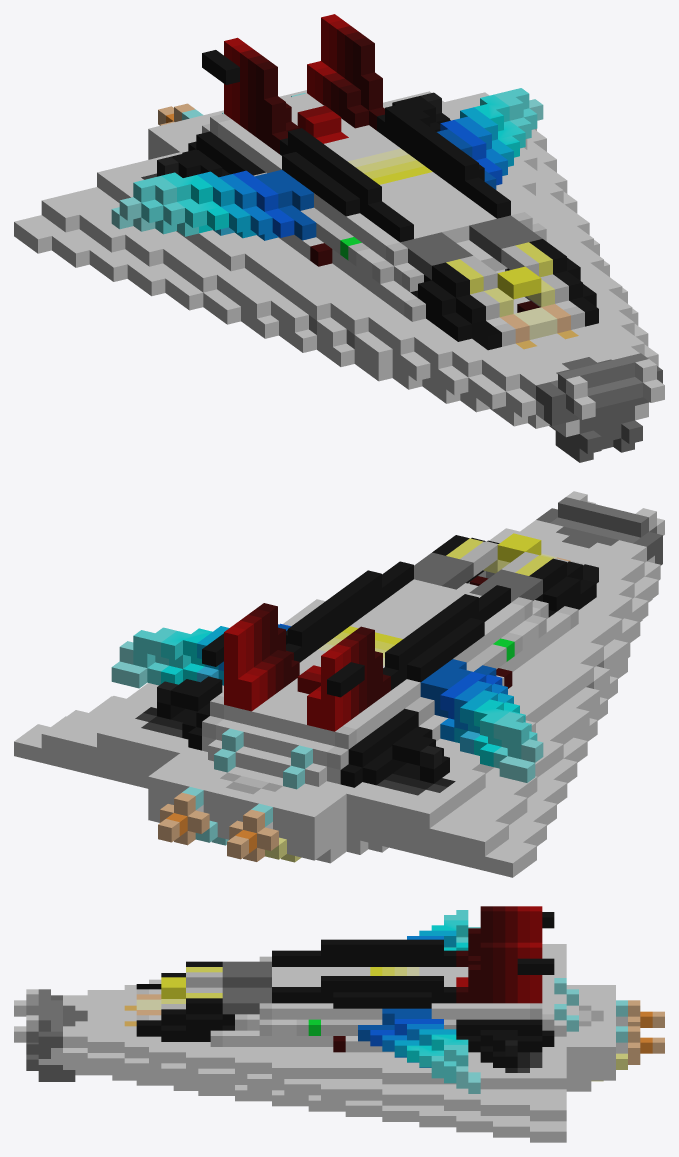
The model's file is fighter-2.glb.
3 views of the same model, one above another, from view 1: azimuth 30°, elevation 25°; view 2: azimuth 150°, elevation 25°; view 3: azimuth 270°, elevation 25° (orthographic). The views are drawn at different scales.
Visible parts, largest first — view 1: fighter-2; view 2: fighter-2; view 3: fighter-2.
Part boxes in pixels (x1,y1,x2,y2): fighter-2: (14, 14, 664, 462); fighter-2: (14, 491, 664, 877); fighter-2: (14, 906, 664, 1142).
Size of the model in its own units: 36 by 13 by 53.
